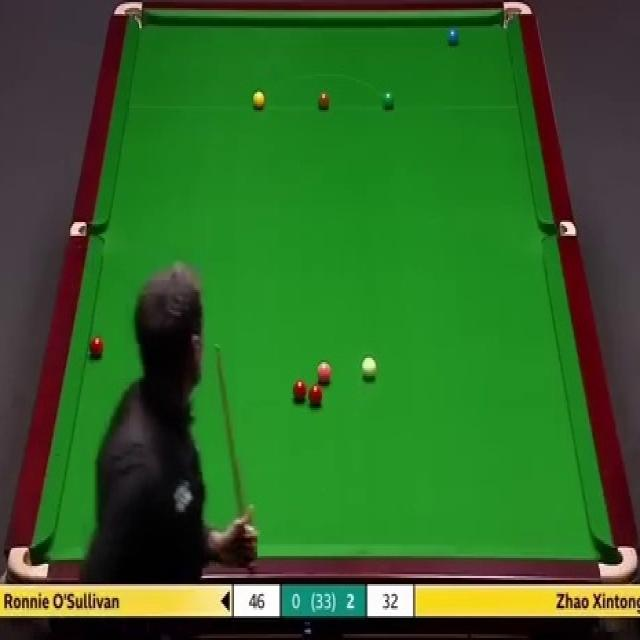blue-ball: (446, 27, 459, 44)
brown-ball: (316, 88, 331, 110)
green-ball: (380, 90, 395, 110)
pink-ball: (316, 359, 332, 384)
red-ball: (88, 336, 105, 358), (308, 383, 324, 406), (293, 378, 308, 399)
white-ball: (359, 355, 377, 382)
yellow-ball: (252, 88, 265, 109)
